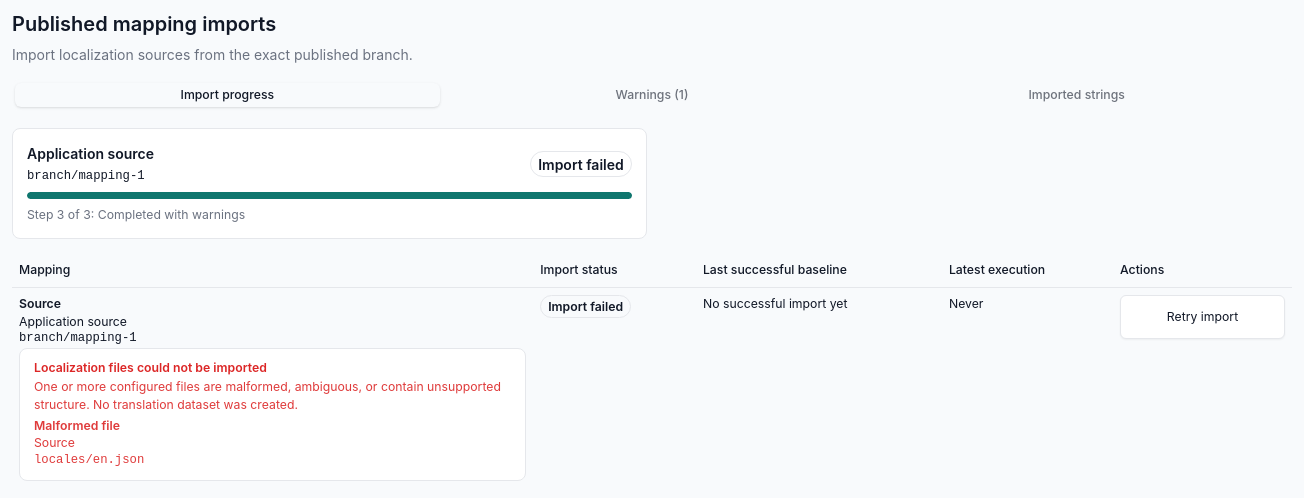
Scenario: published mapping import collection › adopts an accepted import immediately and prevents stale collection rollback, retry=true
The image size is (1304, 498).
Click the button "Retry import" at point(1202, 317), box [1120,295,1285,339]
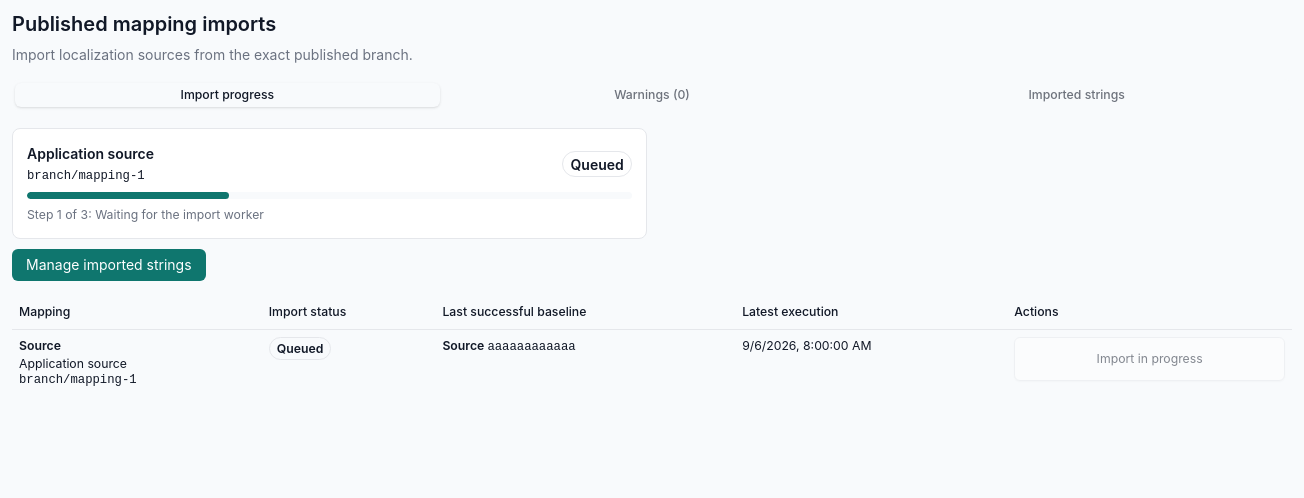
expect the row with test id "published-import-row-mapping-1" shows "Queued": met, box [277,341,323,356]
expect the button "Import in progress" is disabled: met, box [1014,337,1285,381]
